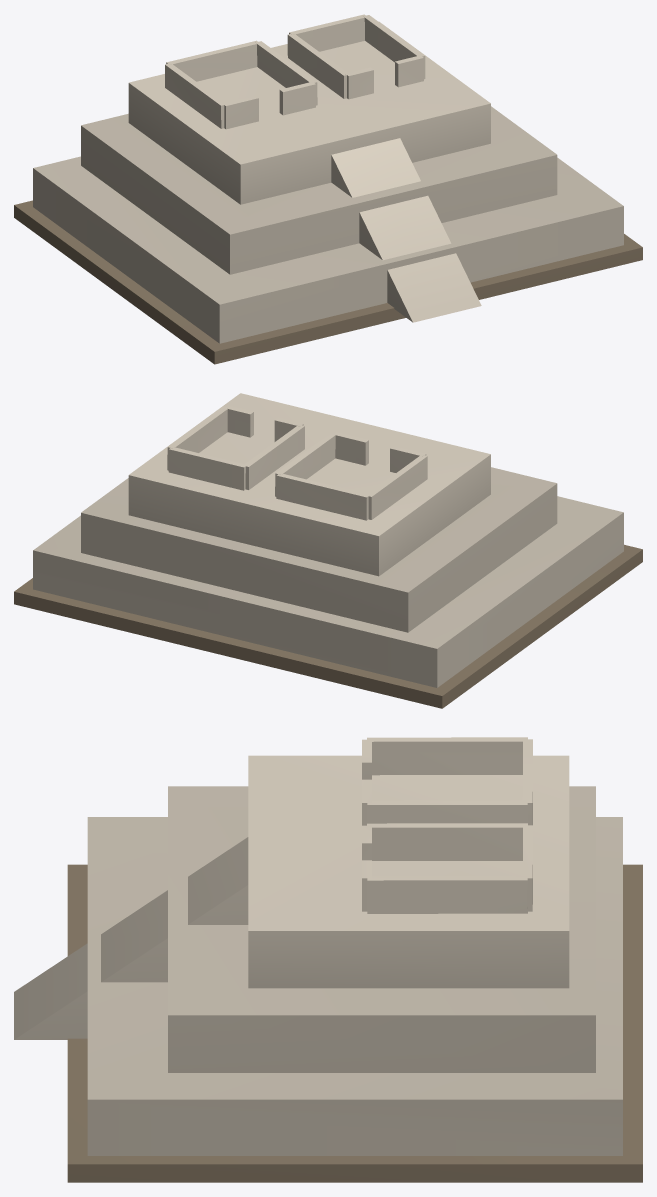
File: caral_huaca_idolos_lod1.glb
The picture shows the model from 3 angles, top to bottom: view 1: azimuth 30°, elevation 25°; view 2: azimuth 150°, elevation 25°; view 3: azimuth 270°, elevation 25°; orthographic projection. The views are drawn at different scales.
Visible parts, largest first — view 1: GEO-Arch_huaca_idolos_LOD1; view 2: GEO-Arch_huaca_idolos_LOD1; view 3: GEO-Arch_huaca_idolos_LOD1.
Part boxes in pixels (x1=…): GEO-Arch_huaca_idolos_LOD1: x1=14, y1=14, x2=642, y2=364; GEO-Arch_huaca_idolos_LOD1: x1=14, y1=393, x2=642, y2=708; GEO-Arch_huaca_idolos_LOD1: x1=14, y1=737, x2=642, y2=1182.
Bounding box in the file's own units: 21.2 × 7.36 × 18.8.
